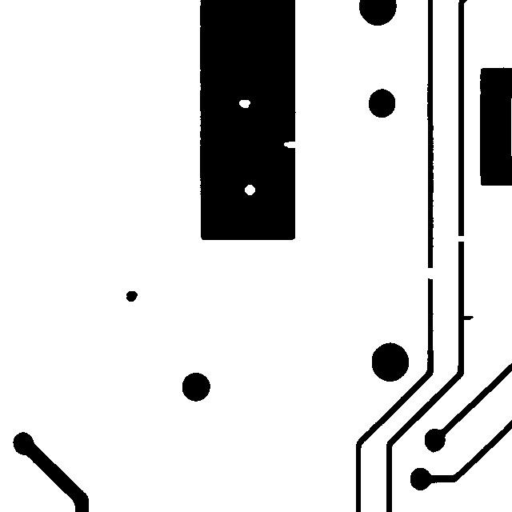copper: (118, 283, 145, 309)
mousebite: (276, 134, 306, 155)
open: (415, 260, 444, 286), (449, 228, 473, 249)
pin-hole: (237, 177, 262, 202), (231, 92, 258, 115)
spur: (455, 308, 481, 327)
